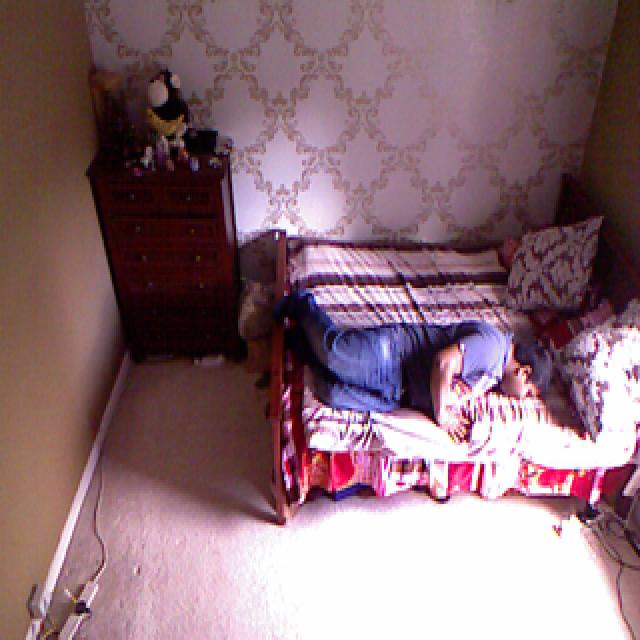lying: (273, 294, 551, 442)
